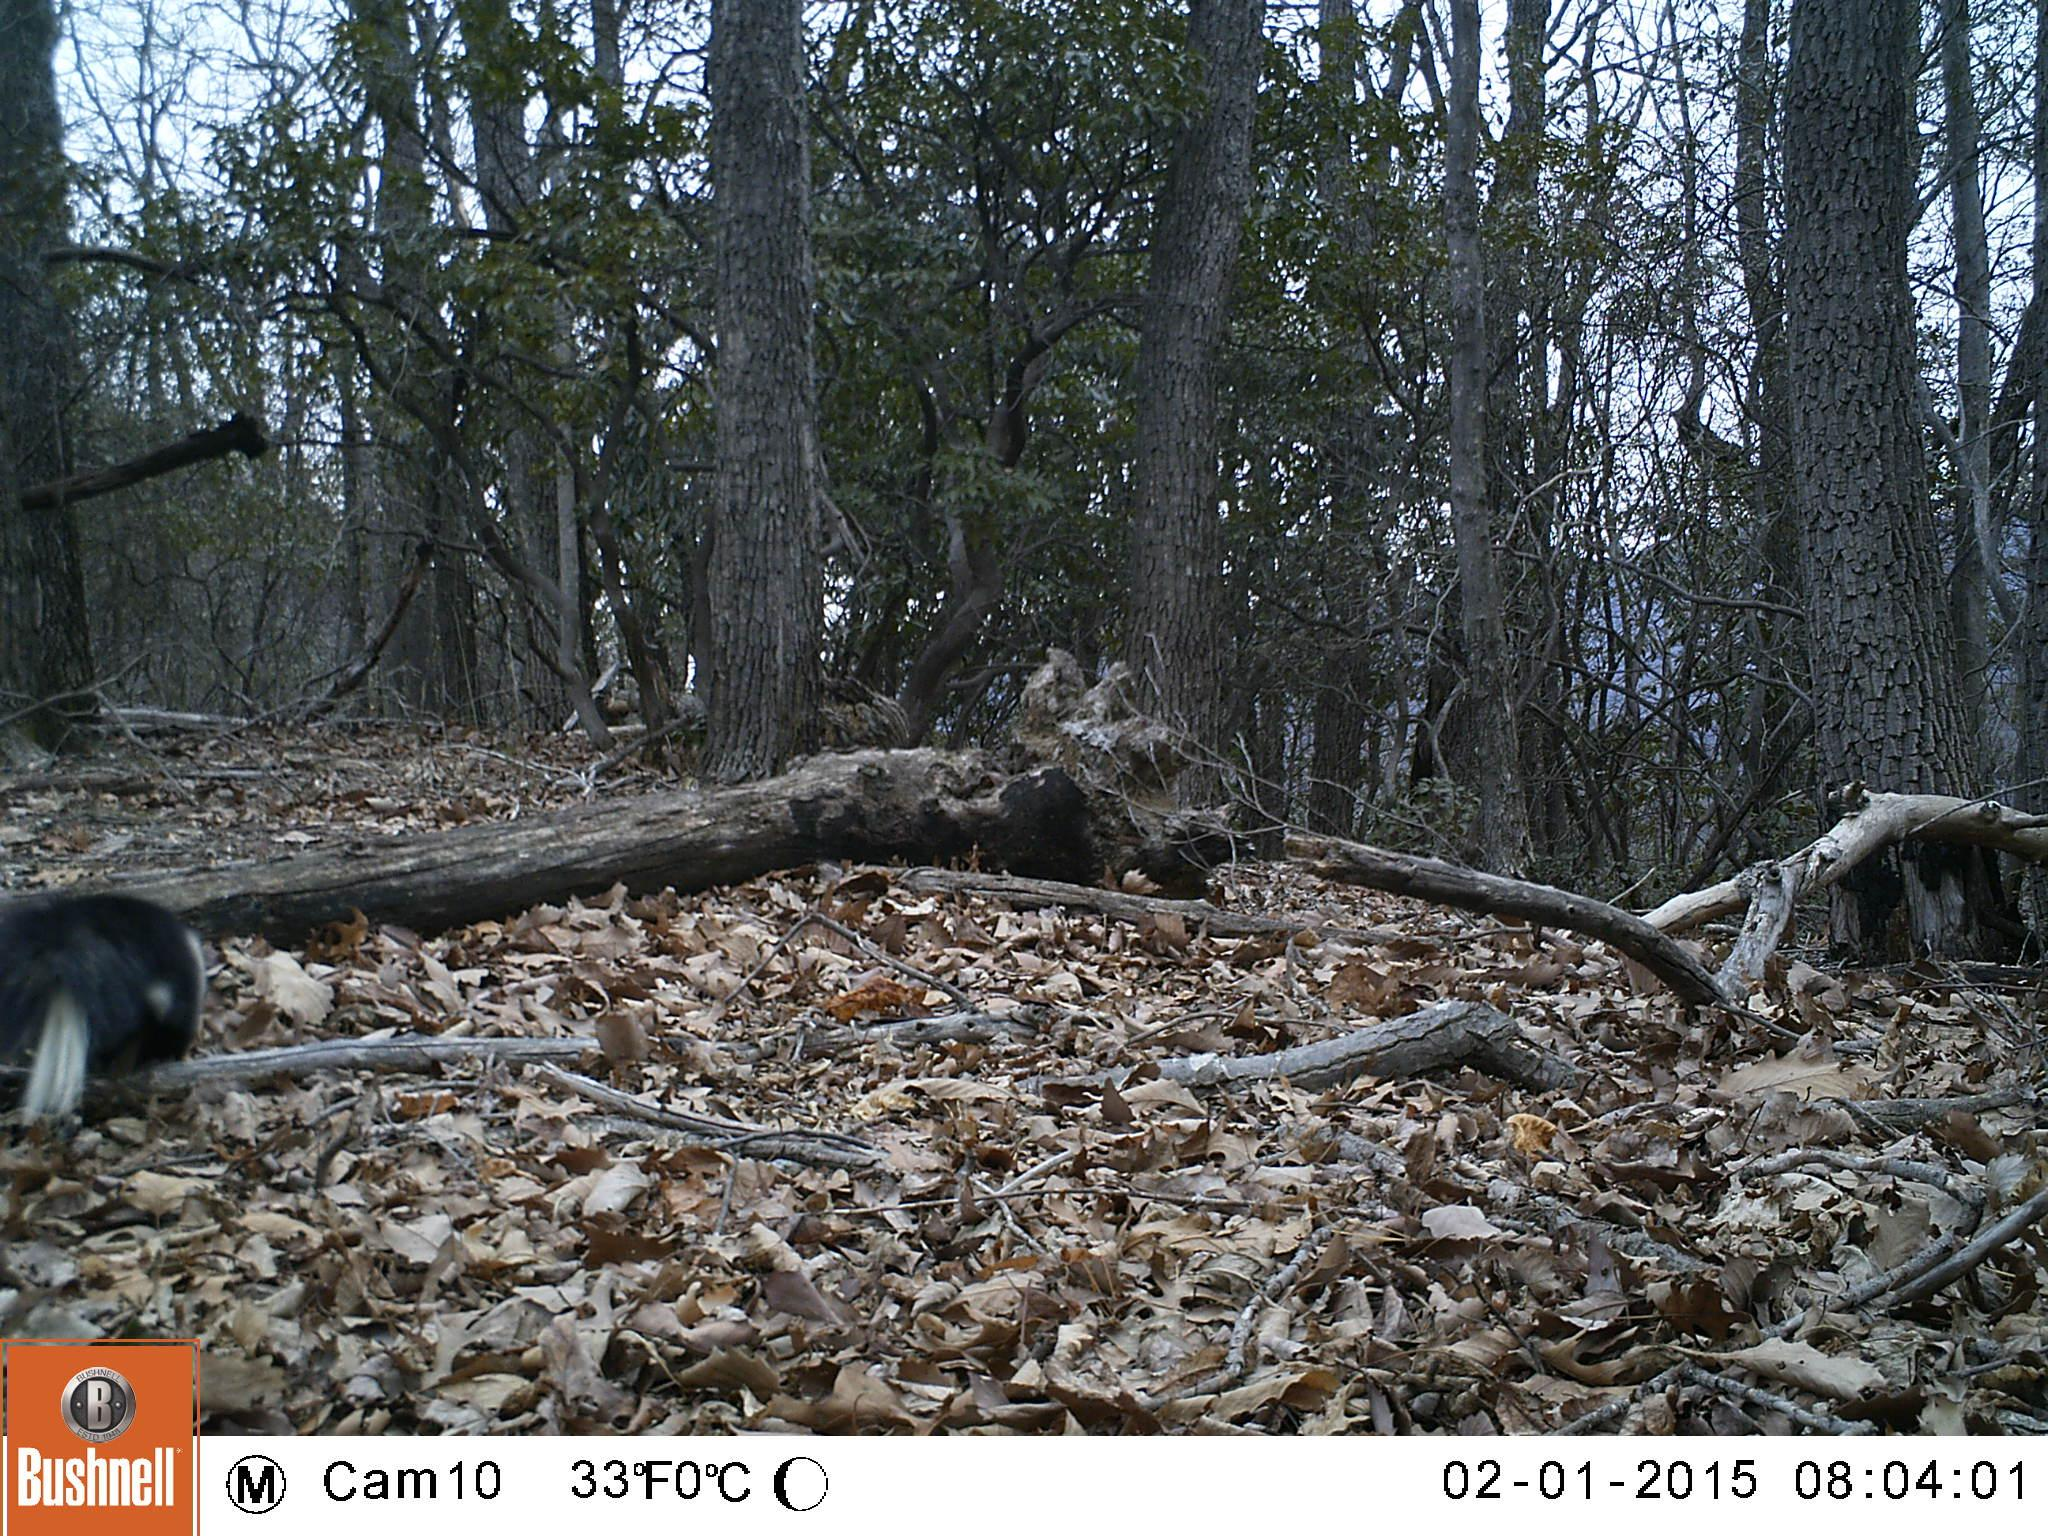Animal: (2, 886, 206, 1104)
